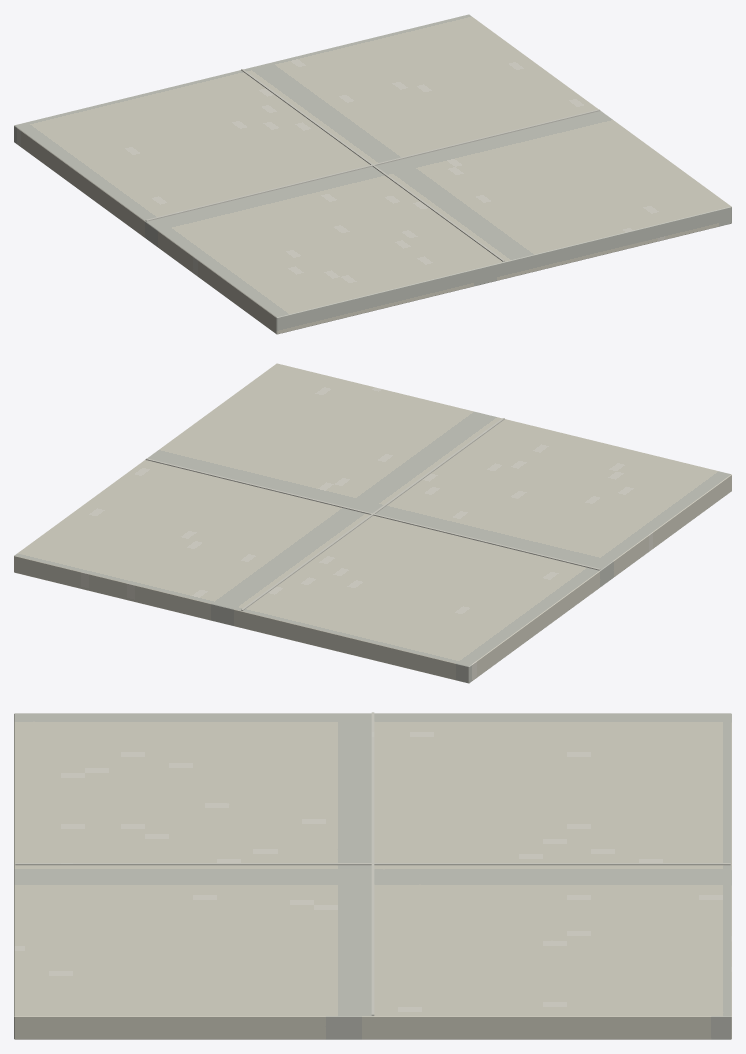
File: pool_deck_tile_module.glb
3 renders of one model, top to bottom at view 1: azimuth 30°, elevation 25°; view 2: azimuth 150°, elevation 25°; view 3: azimuth 270°, elevation 25°, orthographic. The views are drawn at different scales.
Parts seen in each view (by area): view 1: pool_pool_deck_tile_module; view 2: pool_pool_deck_tile_module; view 3: pool_pool_deck_tile_module.
Boxes of the visible parts, x1=… form: pool_pool_deck_tile_module: x1=14, y1=14, x2=731, y2=334; pool_pool_deck_tile_module: x1=14, y1=363, x2=731, y2=683; pool_pool_deck_tile_module: x1=14, y1=712, x2=731, y2=1039.
Size of the model in its own units: 0.5 by 0.019 by 0.5.
2 materials, 2 textured.
